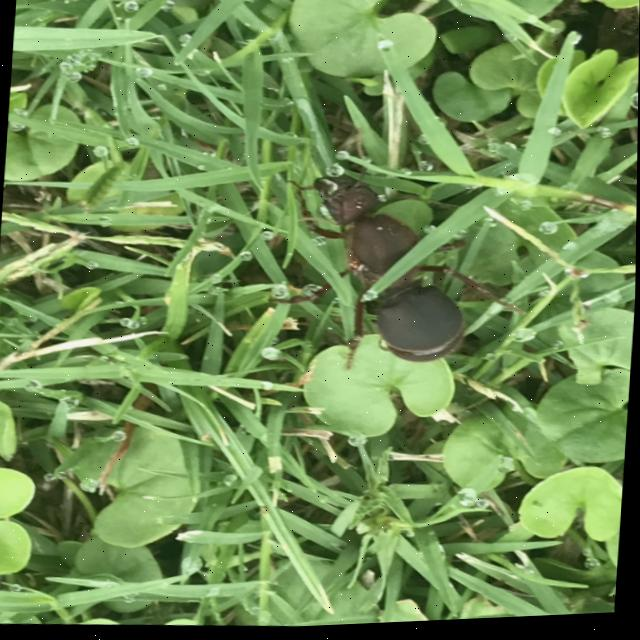Alive-Female-Dealate: (263, 121, 540, 388)
